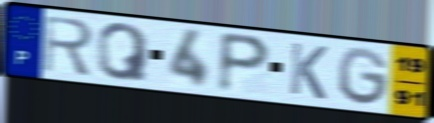4: (165, 26, 212, 92)
G: (336, 45, 391, 108)
K: (287, 39, 331, 102)
P: (215, 29, 274, 95)
Q: (96, 21, 152, 84)
R: (41, 13, 97, 78)
